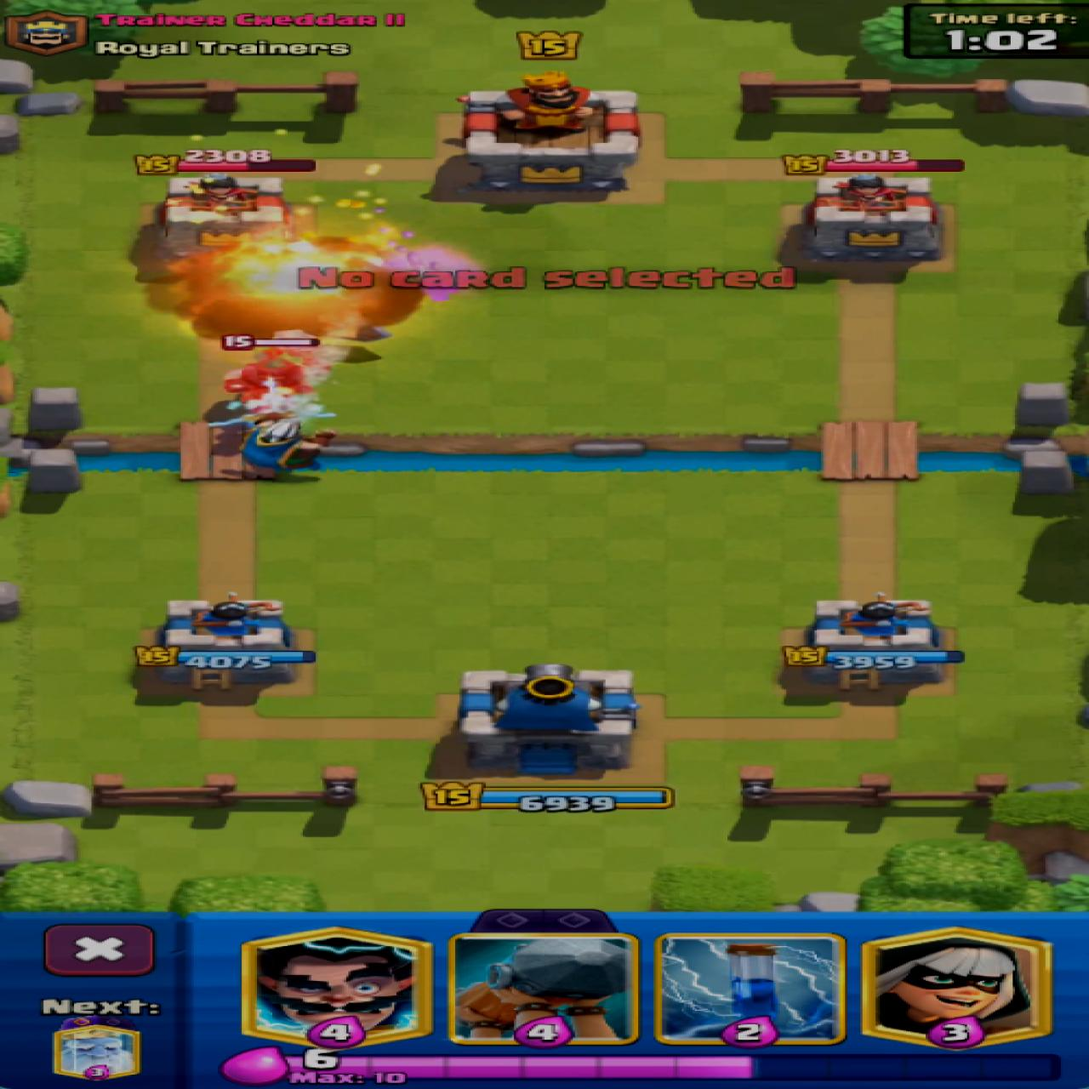Enemy-DarkPrince-Charge: (224, 349, 327, 403)
Enemy-KingTower: (462, 71, 640, 193)
Enemy-PrincessTower: (793, 173, 941, 266), (159, 174, 290, 255)
